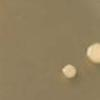white: (82, 39, 100, 65), (60, 62, 79, 81)
